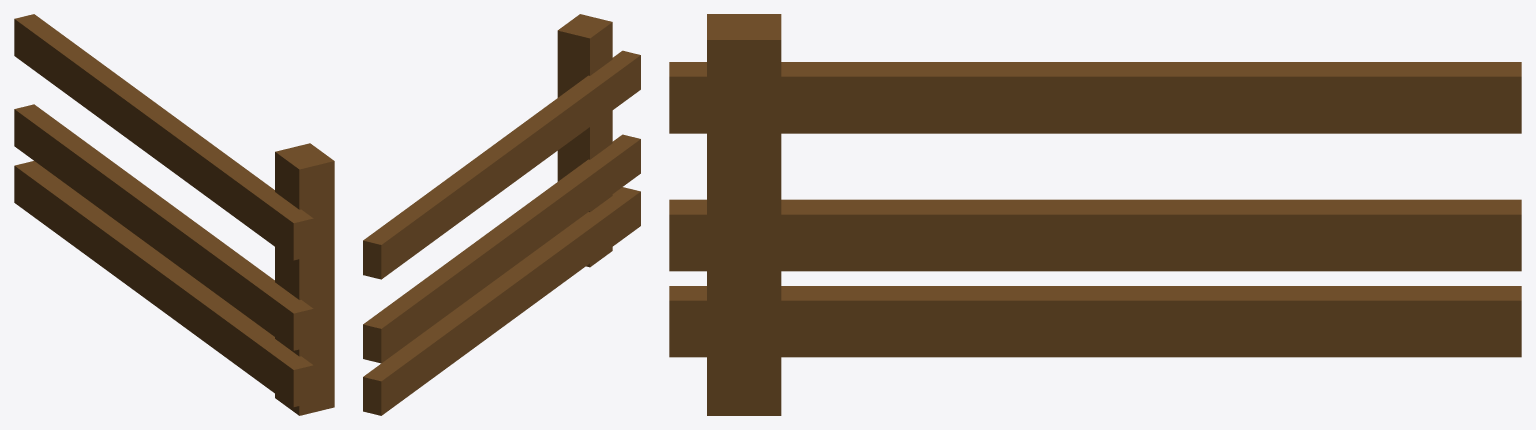
Rendered from Fence 6.fbx.
3 renders of one model, left to right at view 1: azimuth 30°, elevation 25°; view 2: azimuth 150°, elevation 25°; view 3: azimuth 270°, elevation 25°, orthographic. The views are drawn at different scales.
Parts seen in each view (by area): view 1: Fence_6; view 2: Fence_6; view 3: Fence_6.
Boxes of the visible parts, bbox=[...] form: Fence_6: bbox=[14, 14, 334, 415]; Fence_6: bbox=[363, 14, 640, 415]; Fence_6: bbox=[669, 14, 1521, 415].
Size of the model in its own units: 33.03 by 146 by 301.
Materials: 1 (1 with a texture image).
